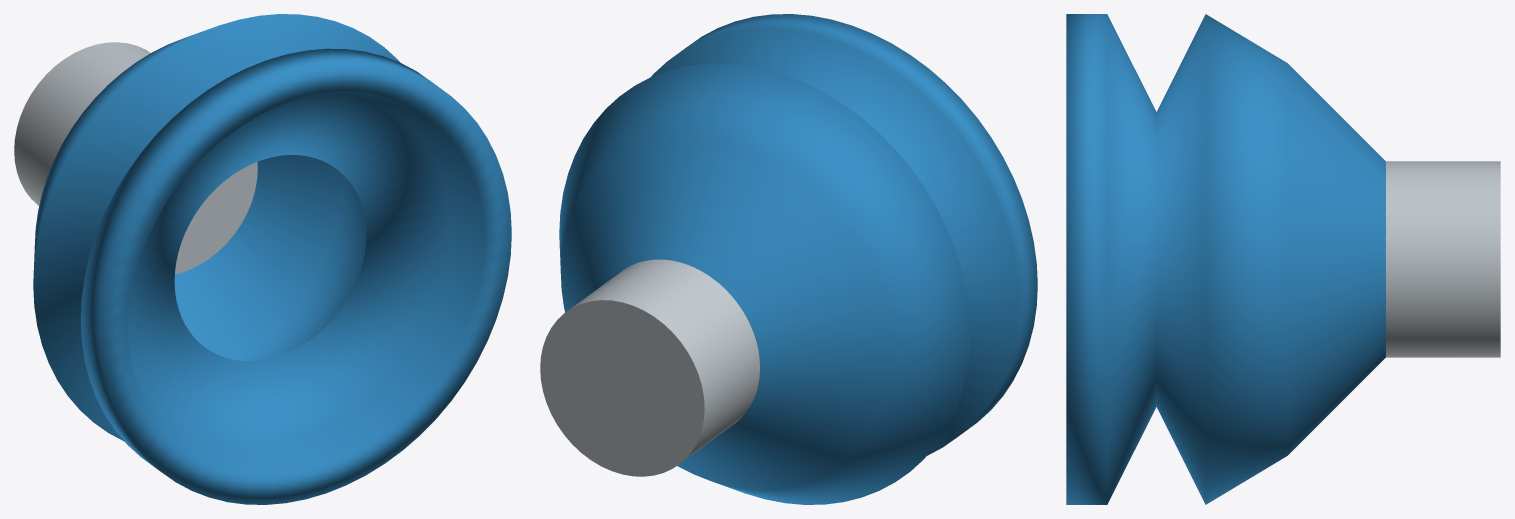
Rendered from cup_a1.obj.
3 renders of one model, left to right at view 1: azimuth 30°, elevation 25°; view 2: azimuth 150°, elevation 25°; view 3: azimuth 270°, elevation 25°, orthographic. The views are drawn at different scales.
Visible parts, largest first — view 1: silicone_bellows, fitting; view 2: silicone_bellows, fitting; view 3: silicone_bellows, fitting.
Part boxes in pixels (<box>): silicone_bellows: <box>33,14,511,504</box>; fitting: <box>14,42,257,274</box>; silicone_bellows: <box>559,14,1037,504</box>; fitting: <box>540,259,759,476</box>; silicone_bellows: <box>1066,14,1385,504</box>; fitting: <box>1385,161,1500,357</box>.
Size of the model in its own units: 0.03 by 0.03 by 0.0265.
